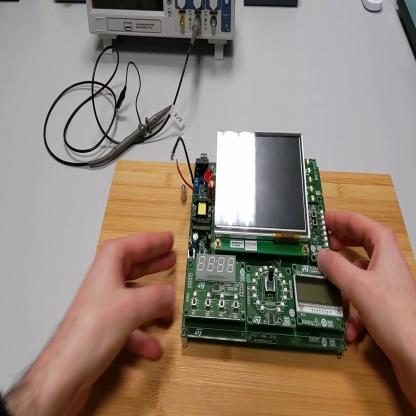hand: (56, 232, 176, 393), (319, 205, 416, 388)
low voltage board: (171, 131, 349, 351)
oscilloscope: (87, 2, 237, 63)
oscilloscope probe tip: (89, 103, 174, 170)
socket: (55, 2, 86, 6)
welder station: (398, 2, 416, 60)
working area: (80, 159, 416, 416)
